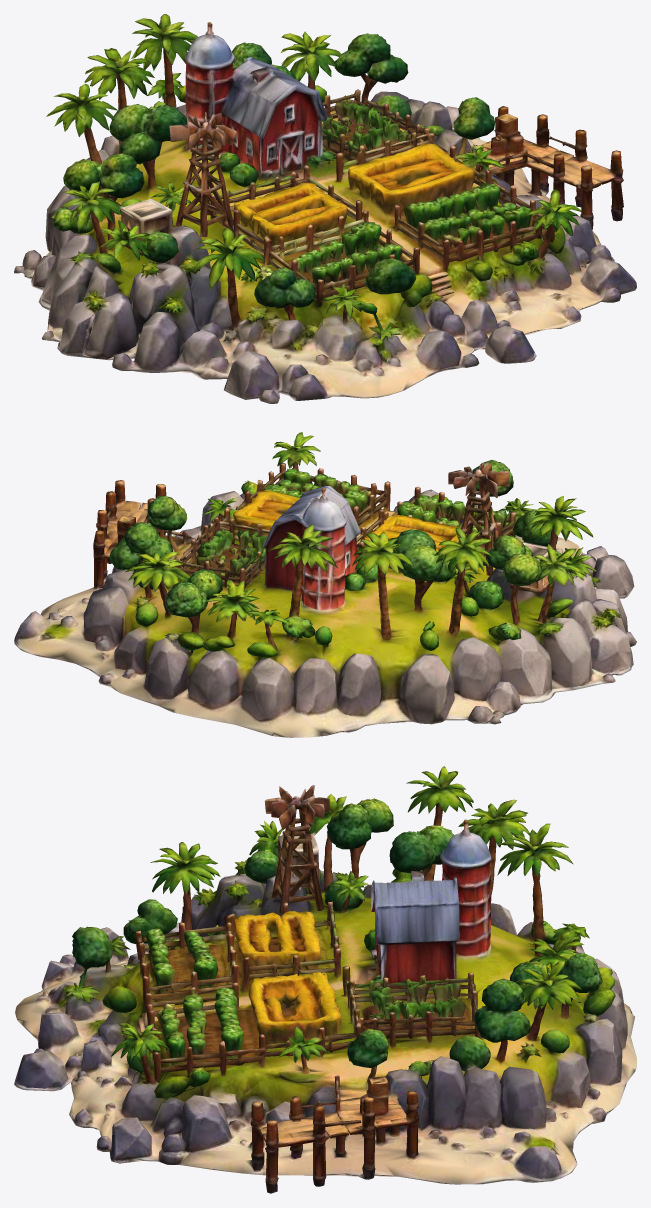
Rendered from agro.glb.
The picture shows the model from 3 angles, top to bottom: view 1: azimuth 30°, elevation 25°; view 2: azimuth 150°, elevation 25°; view 3: azimuth 270°, elevation 25°; orthographic projection. The views are drawn at different scales.
Visible parts, largest first — view 1: tripo_node_a1158558-19f8-4165-90d1-33e3a382993c; view 2: tripo_node_a1158558-19f8-4165-90d1-33e3a382993c; view 3: tripo_node_a1158558-19f8-4165-90d1-33e3a382993c.
Part boxes in pixels (box(x1,y1,x2,y2)): tripo_node_a1158558-19f8-4165-90d1-33e3a382993c: box(14, 14, 636, 403); tripo_node_a1158558-19f8-4165-90d1-33e3a382993c: box(14, 432, 636, 737); tripo_node_a1158558-19f8-4165-90d1-33e3a382993c: box(14, 766, 636, 1193).
Bounding box in the file's own units: 0.9682 × 0.3409 × 0.8982.
1 material, 1 textured.
